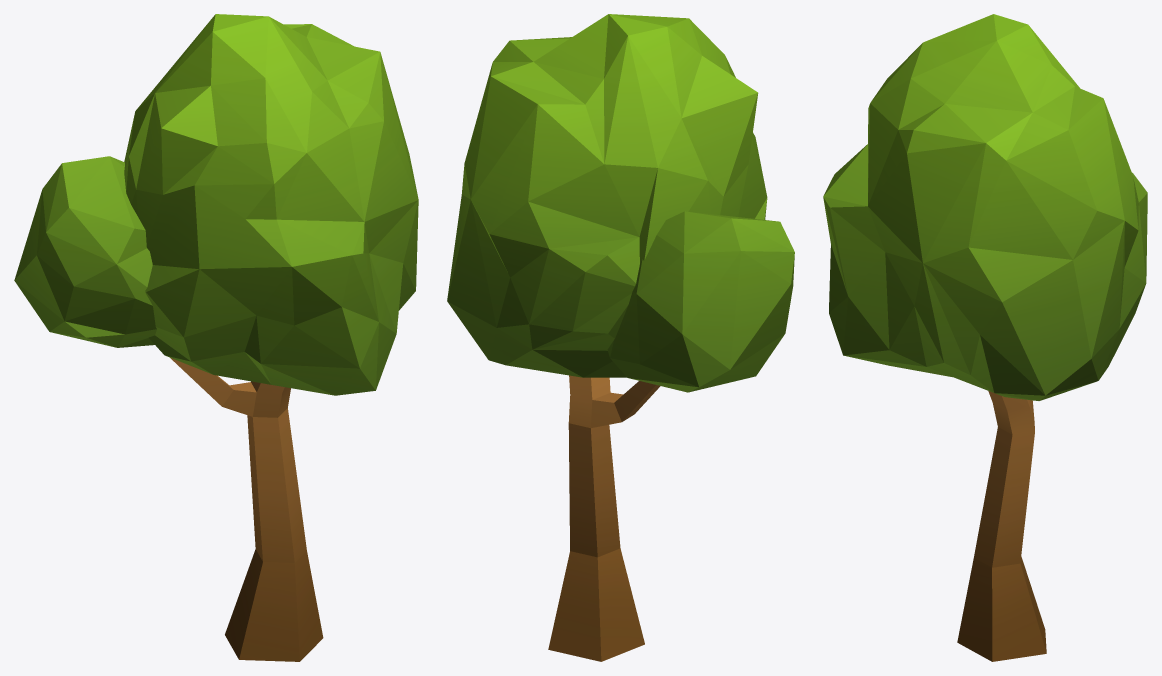
File: SM_Env_Tree_03.fbx
The picture shows the model from 3 angles, left to right: view 1: azimuth 30°, elevation 25°; view 2: azimuth 150°, elevation 25°; view 3: azimuth 270°, elevation 25°; orthographic projection. The views are drawn at different scales.
Visible parts, largest first — view 1: SM_Env_Tree_03; view 2: SM_Env_Tree_03; view 3: SM_Env_Tree_03.
Part boxes in pixels (<box>): SM_Env_Tree_03: <box>14,14,418,661</box>; SM_Env_Tree_03: <box>447,14,794,661</box>; SM_Env_Tree_03: <box>823,14,1147,661</box>.
Bounding box in the file's own units: 2.22 × 3.85 × 1.89.
1 material, 1 textured.
